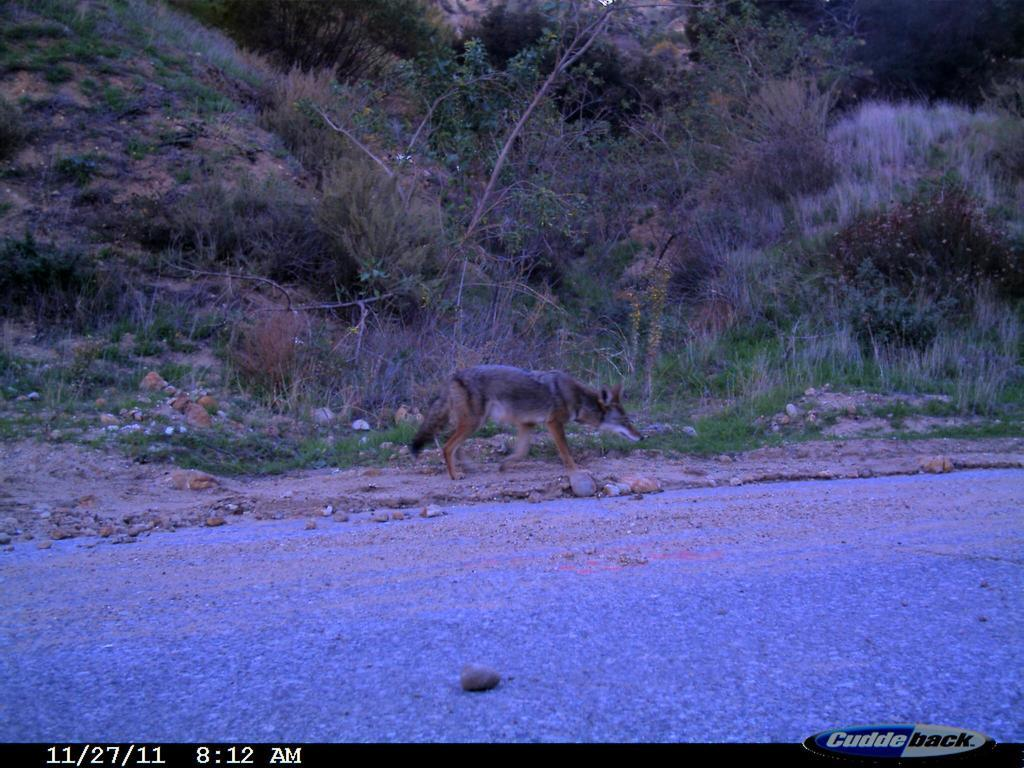coyote: (408, 363, 648, 487)
